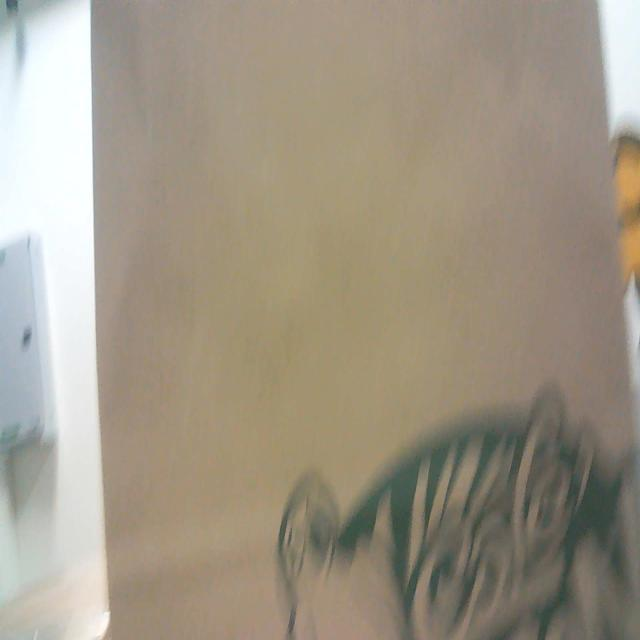bag: (81, 60, 640, 640)
